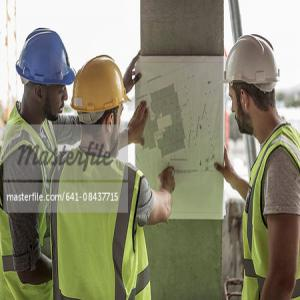blue: (17, 27, 70, 123)
white: (225, 35, 280, 136)
yellow: (74, 53, 126, 157)
